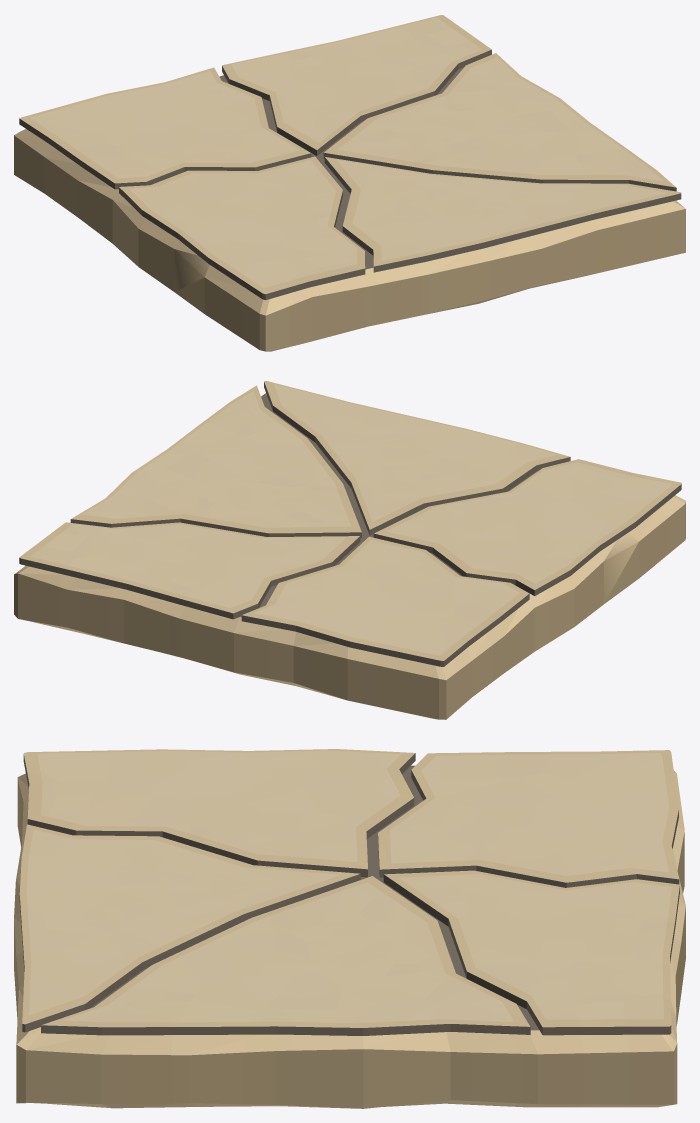
The model's file is tile_c_cracked.glb.
3 renders of one model, top to bottom at view 1: azimuth 30°, elevation 25°; view 2: azimuth 150°, elevation 25°; view 3: azimuth 270°, elevation 25°, orthographic. The views are drawn at different scales.
Visible parts, largest first — view 1: tile_c_cracked; view 2: tile_c_cracked; view 3: tile_c_cracked.
Boxes of the visible parts, bbox=[...] form: tile_c_cracked: bbox=[14, 15, 685, 351]; tile_c_cracked: bbox=[14, 381, 685, 719]; tile_c_cracked: bbox=[14, 749, 685, 1108].
Size of the model in its own units: 2.8 by 0.4 by 2.8.
4 materials, 3 textured.
